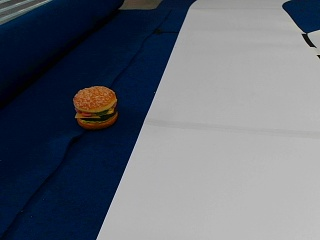burger: (71, 84, 119, 128)
